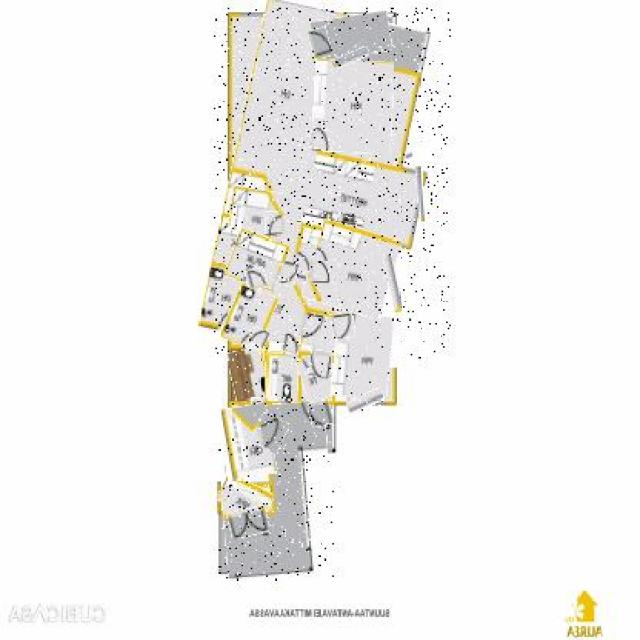door: (252, 416, 288, 452), (228, 508, 269, 537), (309, 28, 331, 57), (310, 400, 332, 428), (332, 314, 356, 338), (309, 351, 331, 377), (309, 128, 334, 150), (309, 260, 331, 285), (264, 211, 284, 234), (246, 268, 268, 288), (280, 262, 298, 286), (249, 328, 268, 350), (283, 334, 299, 354)
window: (386, 254, 400, 312), (348, 392, 384, 411), (331, 51, 369, 66), (417, 166, 426, 222), (278, 397, 291, 406), (252, 399, 263, 406), (405, 151, 412, 158)
zone: (214, 8, 451, 358), (218, 403, 334, 580), (308, 223, 397, 314), (312, 58, 394, 154), (334, 314, 392, 400), (220, 404, 275, 478), (312, 14, 392, 60), (228, 234, 286, 289), (224, 286, 274, 349), (229, 190, 286, 236), (231, 348, 271, 400), (218, 477, 272, 515), (300, 352, 337, 400), (268, 354, 298, 398)
